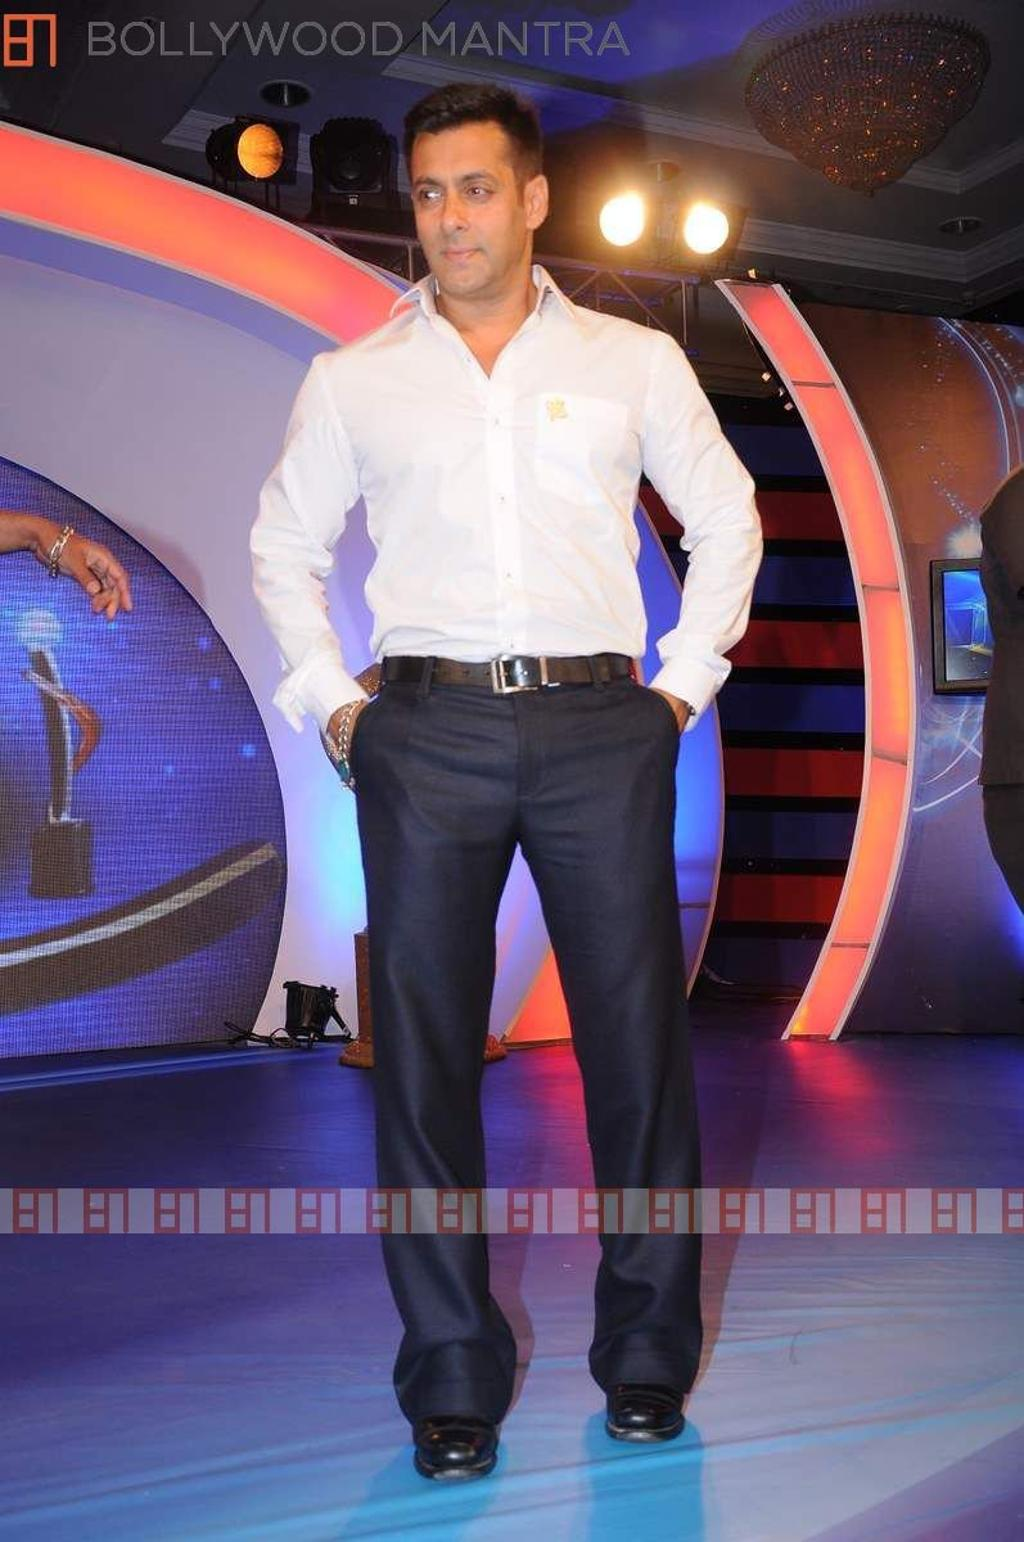face: (410, 120, 521, 295)
